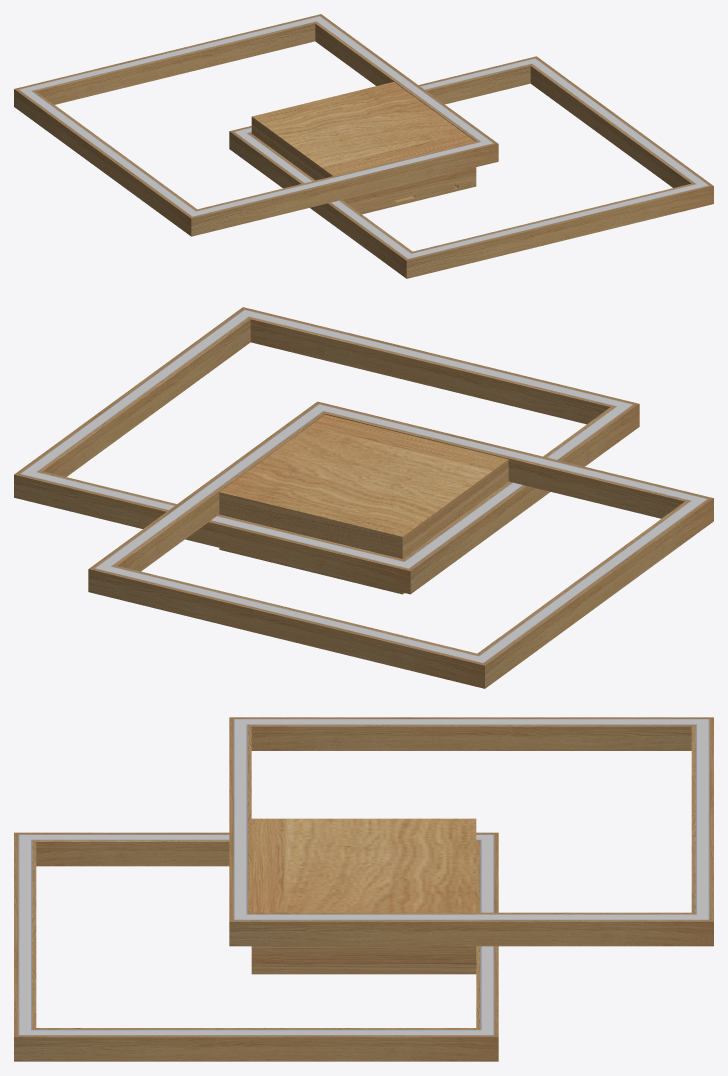
3 renders of one model, top to bottom at view 1: azimuth 30°, elevation 25°; view 2: azimuth 150°, elevation 25°; view 3: azimuth 270°, elevation 25°, orthographic. The views are drawn at different scales.
Parts seen in each view (by area): view 1: Cube.010_Cube.009, Cube.006_Cube.001, Cube.003_Cube.010, Cube.001, Cube.007_Cube.002, Cube.012_Cube.014, Cube.004_Cube.011, Cube.008_Cube.006, Cube.002_Cube.010, alu_led3.001_Cube.032, alu_led1_Cube.013, alu_led3_Cube.017 (+11 smaller); view 2: Cube.010_Cube.009, Cube.001, Cube.003_Cube.010, Cube.002_Cube.010, Cube.007_Cube.002, Cube.012_Cube.014, Cube.004_Cube.011, Cube.006_Cube.001, Cube.008_Cube.006, alu_led3_Cube.017, alu_led1_Cube.013, alu_led3.001_Cube.032 (+12 smaller); view 3: Cube.010_Cube.009, Cube.008_Cube.006, Cube.012_Cube.014, Cube.007_Cube.002, Cube.004_Cube.011, alu_led1.001_Cube.004, alu_led1.002_Cube.008, alu_led3_Cube.017, alu_led1_Cube.013, alu_led3.001_Cube.032, alu_led1.005_Cube.036, alu_led1.003_Cube.030 (+13 smaller).
Part boxes in pixels (<box>): Cube.010_Cube.009: <box>251,82,476,214</box>; Cube.006_Cube.001: <box>191,141,498,236</box>; Cube.003_Cube.010: <box>406,183,713,278</box>; Cube.001: <box>15,14,320,104</box>; Cube.007_Cube.002: <box>14,89,196,236</box>; Cube.012_Cube.014: <box>530,56,713,187</box>; Cube.004_Cube.011: <box>229,131,412,278</box>; Cube.008_Cube.006: <box>315,14,497,143</box>; Cube.002_Cube.010: <box>230,56,536,133</box>; alu_led3.001_Cube.032: <box>408,184,707,258</box>; alu_led1_Cube.013: <box>20,16,319,90</box>; alu_led3_Cube.017: <box>193,142,492,216</box>; Cube.010_Cube.009: <box>219,414,508,594</box>; Cube.001: <box>88,566,484,688</box>; Cube.003_Cube.010: <box>243,307,638,424</box>; Cube.002_Cube.010: <box>14,471,410,594</box>; Cube.007_Cube.002: <box>477,498,713,688</box>; Cube.012_Cube.014: <box>14,307,250,476</box>; Cube.004_Cube.011: <box>403,404,639,593</box>; Cube.006_Cube.001: <box>318,401,713,518</box>; Cube.008_Cube.006: <box>89,401,325,571</box>; alu_led3_Cube.017: <box>319,404,705,500</box>; alu_led1_Cube.013: <box>96,566,482,662</box>; alu_led3.001_Cube.032: <box>245,310,631,406</box>; Cube.010_Cube.009: <box>251,818,476,974</box>; Cube.008_Cube.006: <box>229,912,713,946</box>; Cube.012_Cube.014: <box>14,1028,498,1061</box>; Cube.007_Cube.002: <box>230,717,712,750</box>; Cube.004_Cube.011: <box>15,832,497,866</box>; alu_led1.001_Cube.004: <box>235,719,708,724</box>; alu_led1.002_Cube.008: <box>235,914,707,919</box>; alu_led3_Cube.017: <box>234,719,246,919</box>; alu_led1_Cube.013: <box>697,719,708,919</box>; alu_led3.001_Cube.032: <box>19,835,30,1034</box>; alu_led1.005_Cube.036: <box>20,1030,492,1034</box>; alu_led1.003_Cube.030: <box>481,835,493,1034</box>.
Size of the model in its own units: 78 by 7.6 by 78.
